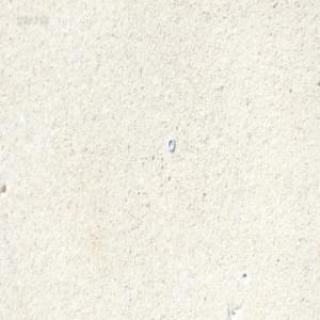Washertrack_idkeyframe: (163, 129, 182, 162)
